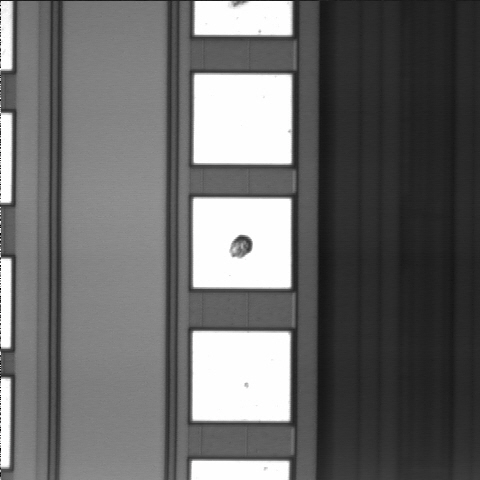pad: (194, 74, 292, 164), (193, 198, 291, 288), (192, 331, 290, 421)
